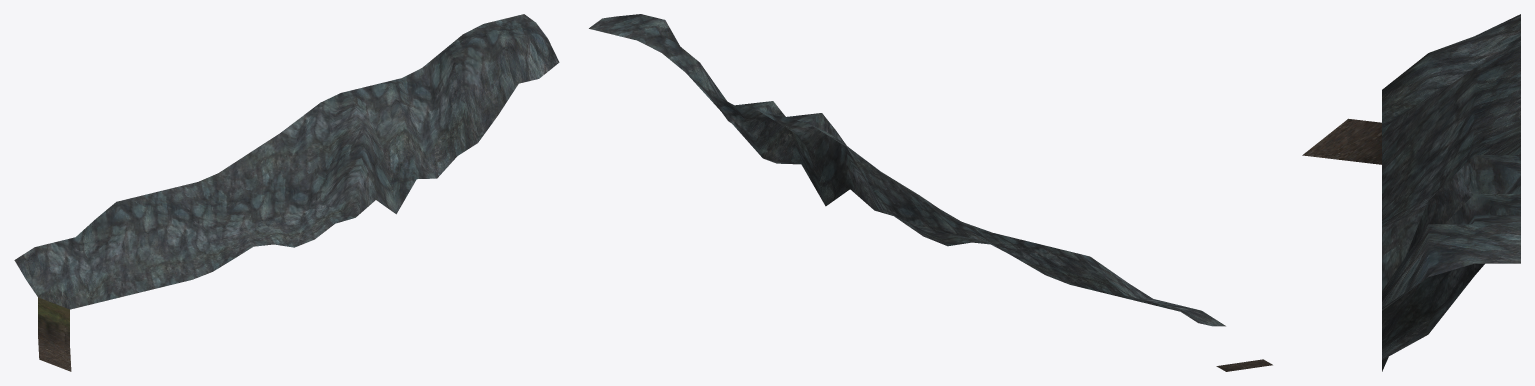
The model's file is terrain_base02.fbx.
The picture shows the model from 3 angles, left to right: view 1: azimuth 30°, elevation 25°; view 2: azimuth 150°, elevation 25°; view 3: azimuth 270°, elevation 25°; orthographic projection. The views are drawn at different scales.
Parts seen in each view (by area): view 1: terrain_base02-0; view 2: terrain_base02-0; view 3: terrain_base02-0.
Part boxes in pixels (x1=…): terrain_base02-0: x1=14, y1=14, x2=559, y2=371; terrain_base02-0: x1=589, y1=14, x2=1272, y2=371; terrain_base02-0: x1=1302, y1=14, x2=1520, y2=371.
Bounding box in the file's own units: 64.84 × 22.63 × 11.83.
